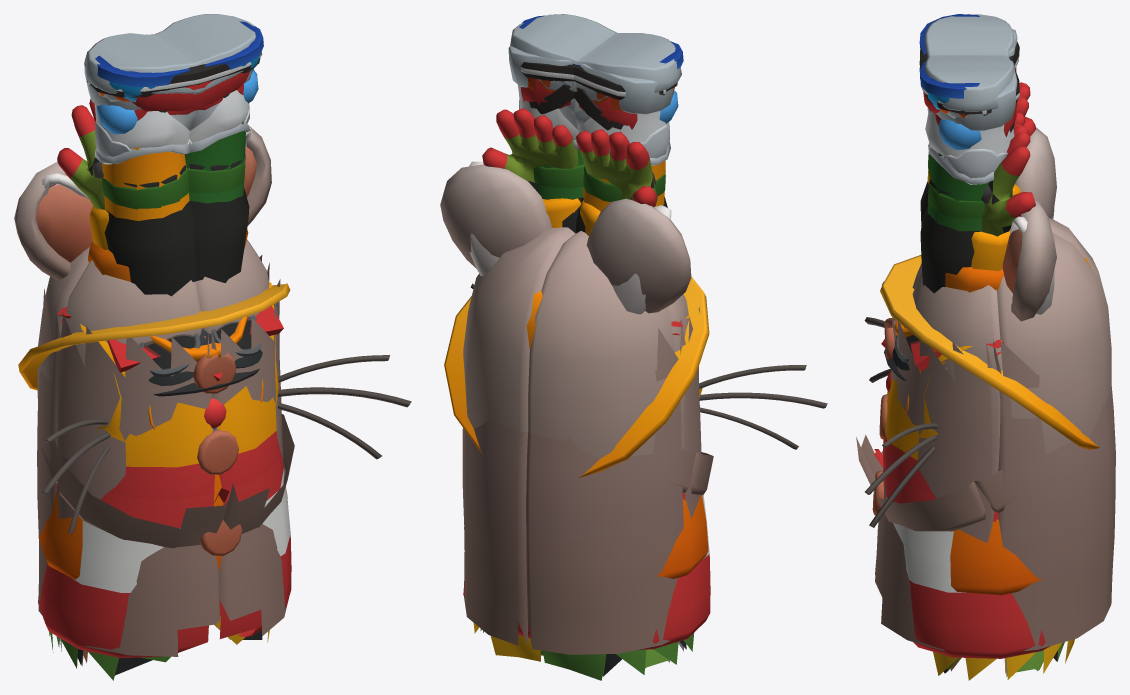
File: guess_time_body_parts.glb
3 renders of one model, left to right at view 1: azimuth 30°, elevation 25°; view 2: azimuth 150°, elevation 25°; view 3: azimuth 270°, elevation 25°, orthographic. The views are drawn at different scales.
Parts seen in each view (by area): view 1: Costume_6_001 (×3), Outerwear_029 (×2), Shoe_Sneakers_009 (×2), Pants_014 (×2), Costume_10_001 (×3), Hat_010, Outerwear_036 (×2), Shoe_Slippers_002 (×2), Hat_057, Pants_010 (×2), Shoe_Slippers_005 (×2), Gloves_006 (+1 smaller); view 2: Costume_6_001 (×3), Shoe_Sneakers_009 (×2), Hat_010, Costume_10_001 (×3), Gloves_014 (×2), Gloves_006 (×2), Outerwear_029 (×2), Shoe_Slippers_005 (×2), Outerwear_036, Pants_010 (×2), Hat_049, Shoe_Slippers_002; view 3: Costume_6_001 (×3), Outerwear_029 (×2), Shoe_Sneakers_009 (×2), Hat_010, Outerwear_036 (×2), Costume_10_001 (×2), Pants_014, Gloves_014 (×2), Shoe_Slippers_002, Gloves_006, Pants_010 (×2), Hat_057 (+2 smaller).
Part boxes in pixels (<box>): Costume_6_001 (×3): <box>14,124,411,656</box>; Outerwear_029 (×2): <box>38,206,291,658</box>; Shoe_Sneakers_009 (×2): <box>84,14,262,164</box>; Pants_014 (×2): <box>104,154,249,296</box>; Costume_10_001 (×3): <box>49,68,283,680</box>; Hat_010: <box>18,283,290,390</box>; Outerwear_036 (×2): <box>38,242,287,579</box>; Shoe_Slippers_002 (×2): <box>95,21,263,134</box>; Hat_057: <box>139,315,262,396</box>; Pants_010 (×2): <box>102,155,245,209</box>; Shoe_Slippers_005 (×2): <box>87,55,260,112</box>; Gloves_006: <box>70,130,104,209</box>; Costume_6_001 (×3): <box>440,164,827,654</box>; Shoe_Sneakers_009 (×2): <box>508,14,681,165</box>; Hat_010: <box>444,276,709,477</box>; Costume_10_001 (×3): <box>473,79,693,680</box>; Gloves_014 (×2): <box>482,108,657,206</box>; Gloves_006 (×2): <box>504,134,657,206</box>; Outerwear_029 (×2): <box>463,198,710,649</box>; Shoe_Slippers_005 (×2): <box>511,62,677,130</box>; Outerwear_036: <box>464,291,708,578</box>; Pants_010 (×2): <box>533,164,665,201</box>; Hat_049: <box>469,161,671,314</box>; Shoe_Slippers_002: <box>576,41,683,123</box>; Costume_6_001 (×3): <box>856,127,1115,651</box>; Outerwear_029 (×2): <box>883,229,1050,658</box>; Shoe_Sneakers_009 (×2): <box>920,14,1017,184</box>; Hat_010: <box>880,255,1099,449</box>; Outerwear_036 (×2): <box>894,258,1101,595</box>; Costume_10_001 (×2): <box>881,107,1074,680</box>; Pants_014: <box>920,179,981,293</box>; Gloves_014 (×2): <box>988,82,1035,232</box>; Shoe_Slippers_002: <box>919,61,981,149</box>; Gloves_006: <box>981,160,1021,236</box>; Pants_010 (×2): <box>928,181,1064,672</box>; Hat_057: <box>884,327,919,380</box>.
Bounding box in the file's own units: 0.7434 × 1.18 × 0.4679.
2 materials, 2 textured.
